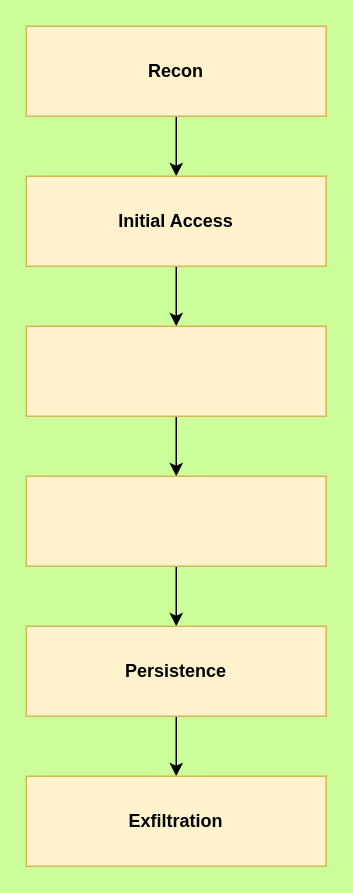
Some shapes in this 353 by 893 pixel diagram are drawn without their labels. The shapes that lost their labels are listed below. From the top down, each one's box as (x1, y1, x2, y2) in pixels, then its label:
(25, 325, 326, 416): Exploitation
(25, 475, 326, 566): Lateral Movement
